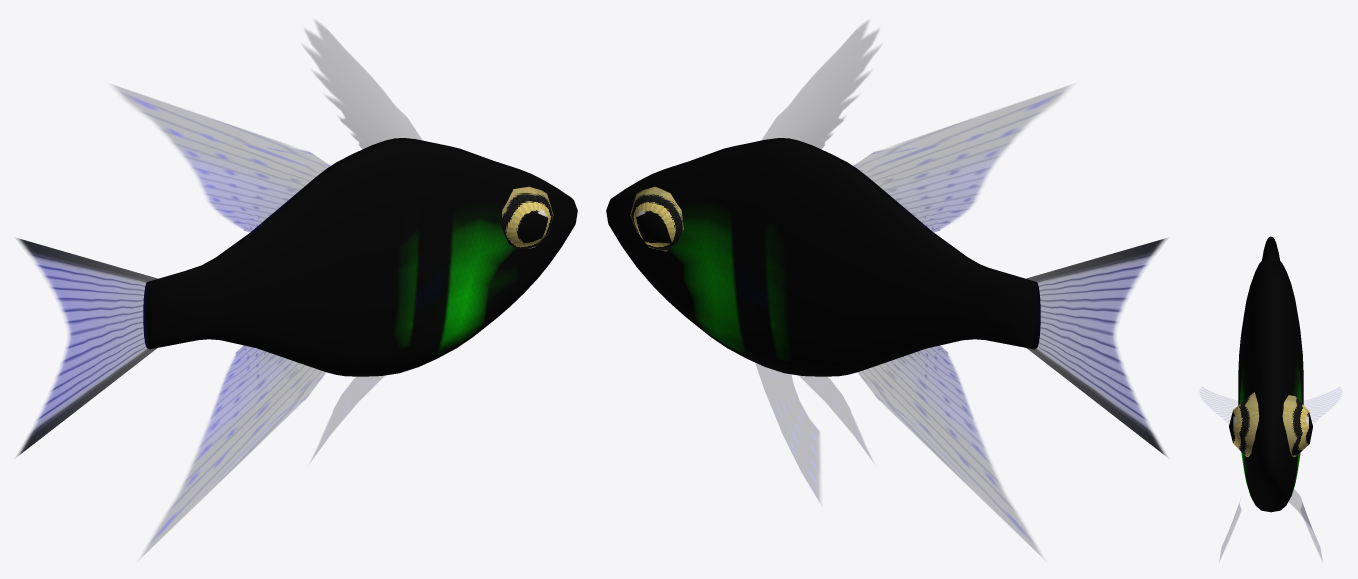
The model's file is banggai_lod1.glb.
3 views of the same model, side by side, from view 1: azimuth 30°, elevation 25°; view 2: azimuth 150°, elevation 25°; view 3: azimuth 270°, elevation 25° (orthographic). The views are drawn at different scales.
Parts seen in each view (by area): view 1: Body, FinCaudal, FinDorsal2, FinAnal, FinDorsal, EyeR, FinPelvicL; view 2: Body, FinCaudal, FinDorsal2, FinAnal, FinDorsal, FinPelvicL, EyeL, FinPelvicR; view 3: Body, EyeL, EyeR, FinPelvicL, FinPelvicR.
Part boxes in pixels (x1,y1,x2,y2): Body: (143,138,577,376); FinCaudal: (16,238,158,456); FinDorsal2: (115,86,332,233); FinAnal: (143,345,325,555); FinDorsal: (305,22,421,150); EyeR: (501,186,553,248); FinPelvicL: (311,376,383,460); Body: (606,138,1040,376); FinCaudal: (1025,238,1167,456); FinDorsal2: (851,86,1068,233); FinAnal: (858,345,1040,555); FinDorsal: (762,22,878,150); FinPelvicL: (755,361,819,501); EyeL: (630,186,683,251); FinPelvicR: (800,376,872,460); Body: (1238,236,1303,512); EyeL: (1282,395,1312,457); EyeR: (1229,392,1259,456); FinPelvicL: (1289,489,1321,558); FinPelvicR: (1220,503,1240,558).
Size of the model in its own units: 1 by 0.859 by 0.2323.
4 materials, 3 textured.
